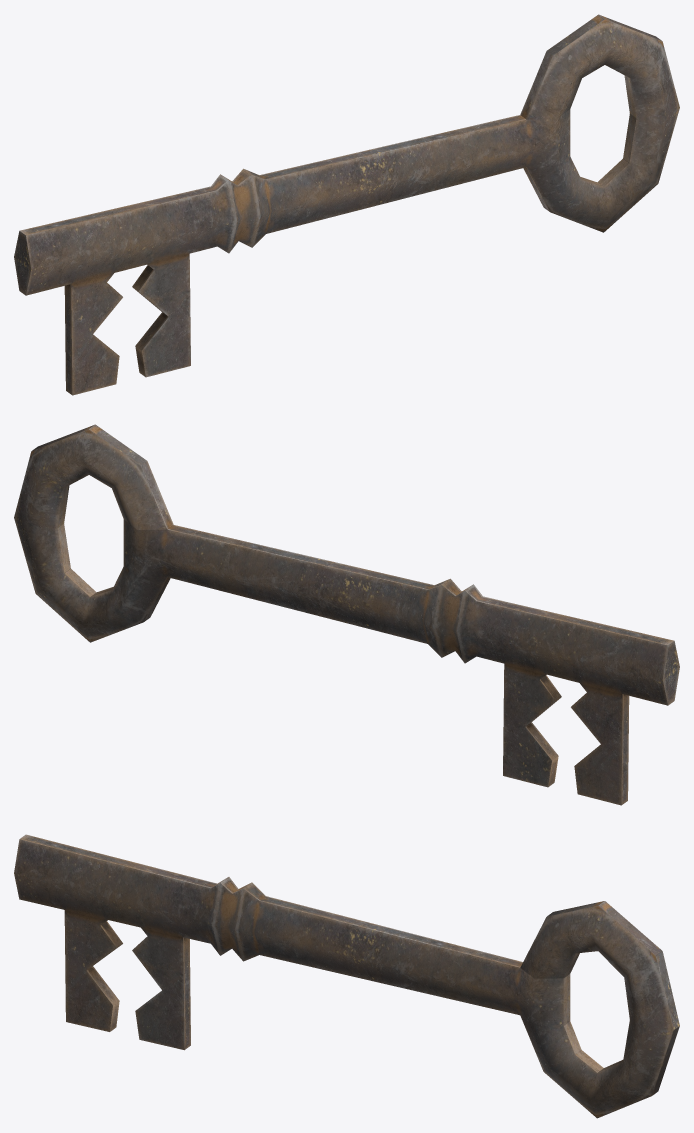
The picture shows the model from 3 angles, top to bottom: view 1: azimuth 30°, elevation 25°; view 2: azimuth 150°, elevation 25°; view 3: azimuth 330°, elevation 25°; orthographic projection.
Visible parts, largest first — view 1: Geode; view 2: Geode; view 3: Geode.
Boxes of the visible parts, box(x1,y1,x2,y2) form: Geode: box(14, 14, 679, 395); Geode: box(14, 424, 679, 805); Geode: box(14, 834, 679, 1118).
Bounding box in the file's own units: 2 × 0.7199 × 0.1226.
Materials: 1 (1 with a texture image).
